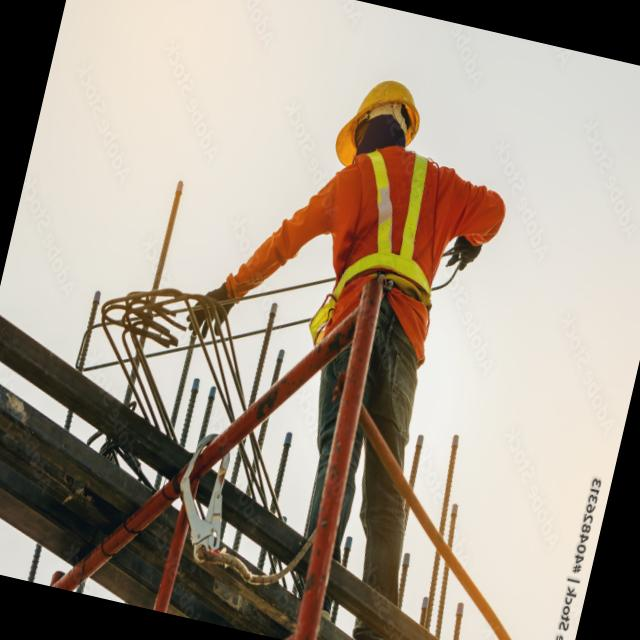helmet: (326, 62, 426, 171)
vest: (311, 140, 453, 338)
